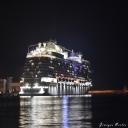cruises: (18, 37, 95, 100)
